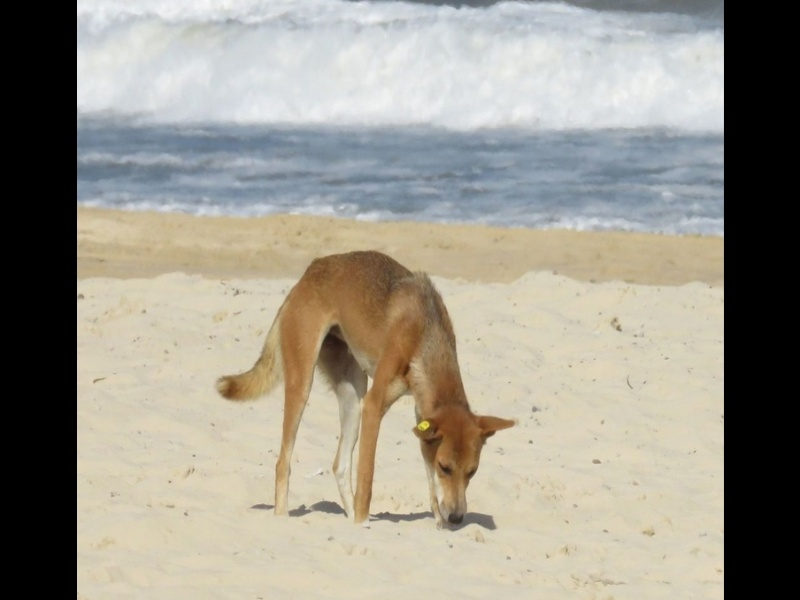dog: (215, 251, 519, 537)
